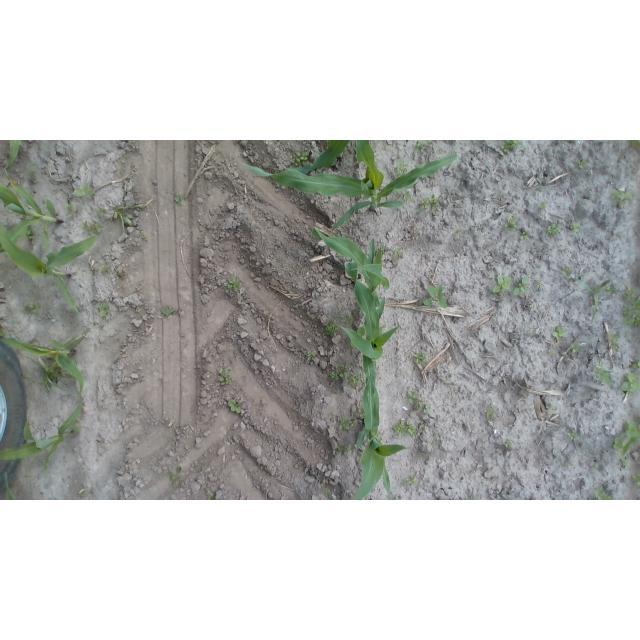Maize: (238, 141, 459, 234), (333, 260, 399, 424), (0, 225, 98, 315), (350, 373, 406, 500), (309, 227, 390, 305), (2, 328, 83, 396), (1, 172, 66, 255), (0, 405, 82, 470), (294, 140, 348, 177), (4, 141, 19, 174), (3, 472, 15, 500)
Weeds: (572, 278, 609, 325), (613, 420, 640, 450), (422, 284, 447, 309), (612, 188, 639, 209), (622, 298, 640, 326), (114, 206, 134, 228), (622, 373, 640, 396), (594, 368, 614, 388), (417, 195, 439, 212), (396, 155, 412, 177), (514, 277, 531, 296), (493, 276, 511, 293), (76, 183, 96, 198), (166, 466, 184, 482), (331, 364, 349, 380), (593, 487, 613, 500), (395, 188, 414, 201), (224, 277, 240, 292), (623, 286, 638, 301), (294, 150, 309, 165), (553, 325, 570, 338), (549, 224, 564, 238), (67, 205, 82, 219), (221, 368, 232, 387), (393, 420, 406, 436), (414, 400, 430, 413), (24, 303, 40, 316), (229, 399, 243, 413), (609, 332, 621, 348), (505, 216, 517, 232), (325, 321, 337, 337), (88, 224, 105, 235), (96, 303, 108, 318), (503, 141, 521, 150), (571, 222, 583, 235), (520, 229, 532, 242), (340, 418, 353, 430), (337, 444, 349, 457), (27, 230, 37, 245), (568, 427, 580, 439), (407, 421, 418, 434), (351, 374, 362, 386), (162, 307, 175, 317), (415, 140, 431, 148), (415, 353, 426, 364), (393, 247, 404, 258), (342, 316, 354, 325), (621, 457, 631, 467), (580, 159, 589, 170), (540, 202, 549, 213), (487, 410, 498, 419), (405, 476, 417, 484), (27, 168, 35, 180), (631, 358, 640, 368), (534, 279, 543, 289), (358, 406, 365, 418), (408, 393, 417, 402), (564, 267, 573, 276), (571, 342, 579, 352), (174, 196, 182, 205), (631, 141, 640, 148), (606, 285, 616, 291), (634, 473, 640, 483), (506, 440, 514, 447), (140, 234, 148, 241), (100, 265, 108, 272), (327, 492, 333, 500), (305, 356, 314, 361), (550, 350, 557, 356), (210, 493, 216, 500), (99, 208, 106, 214), (82, 222, 87, 227), (456, 229, 462, 233)
